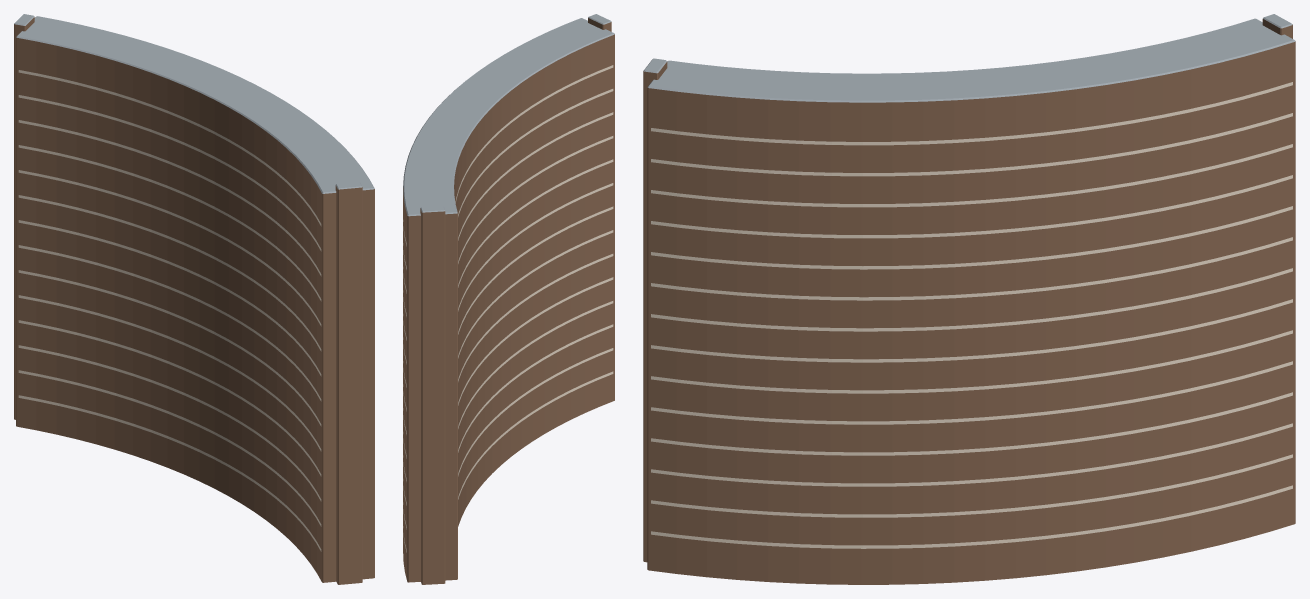
Rendered from lv-wynn.glb.
The picture shows the model from 3 angles, left to right: view 1: azimuth 30°, elevation 25°; view 2: azimuth 150°, elevation 25°; view 3: azimuth 270°, elevation 25°; orthographic projection. The views are drawn at different scales.
Visible parts, largest first — view 1: Wynn Las Vegas; view 2: Wynn Las Vegas; view 3: Wynn Las Vegas.
Boxes of the visible parts, x1,y1,x2,y2 form: Wynn Las Vegas: [14, 14, 374, 584]; Wynn Las Vegas: [403, 14, 614, 584]; Wynn Las Vegas: [643, 14, 1295, 584].
Bounding box in the file's own units: 69.27 × 190 × 229.
